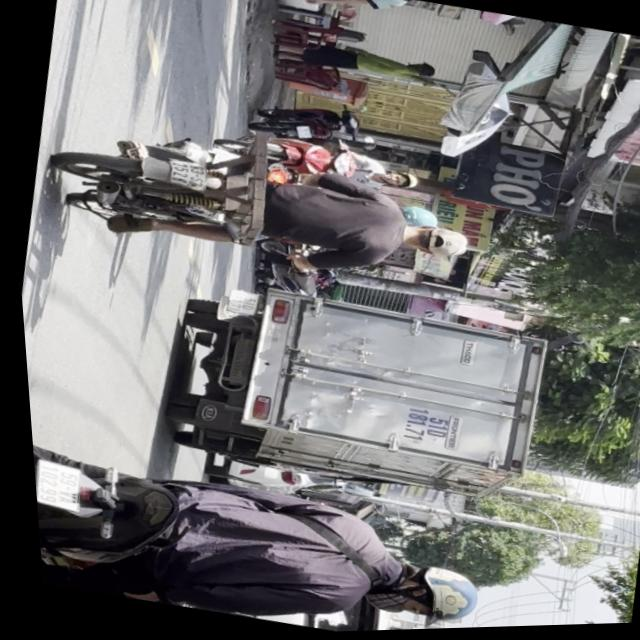helmet: (364, 556, 473, 632), (393, 205, 438, 233), (377, 169, 419, 194)
licenseplate: (25, 418, 492, 640), (31, 101, 485, 311)
motorcyclist: (397, 221, 469, 267)
nohelmet: (27, 458, 78, 511), (165, 158, 205, 191)
